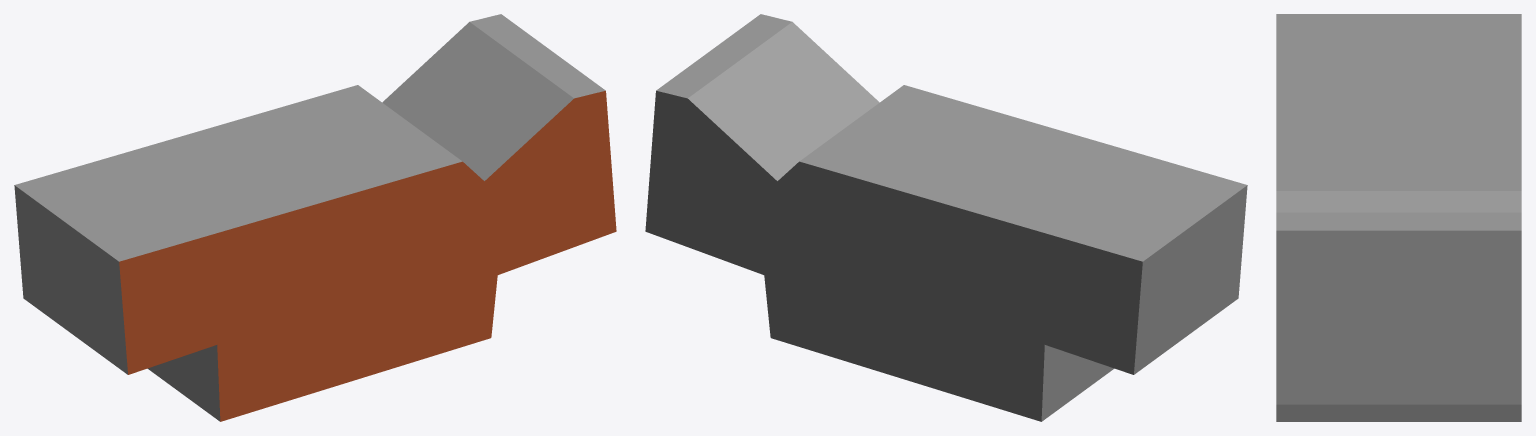
File: construction_2365_assumed_A_Casa_h6m.obj
3 views of the same model, side by side, from view 1: azimuth 30°, elevation 25°; view 2: azimuth 150°, elevation 25°; view 3: azimuth 270°, elevation 25° (orthographic). The views are drawn at different scales.
Visible parts, largest first — view 1: construction_2365_assumed_A_Casa; view 2: construction_2365_assumed_A_Casa; view 3: construction_2365_assumed_A_Casa.
Part boxes in pixels (left/top/right/bottom): construction_2365_assumed_A_Casa: left=14, top=14, right=616, bottom=421; construction_2365_assumed_A_Casa: left=645, top=14, right=1247, bottom=421; construction_2365_assumed_A_Casa: left=1276, top=14, right=1521, bottom=421.
Size of the model in its own units: 16.45 by 7.5 by 6.
